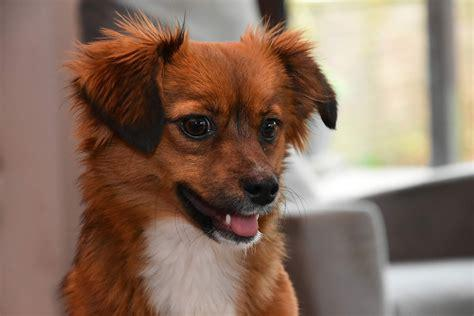dog: (63, 30, 332, 316)
